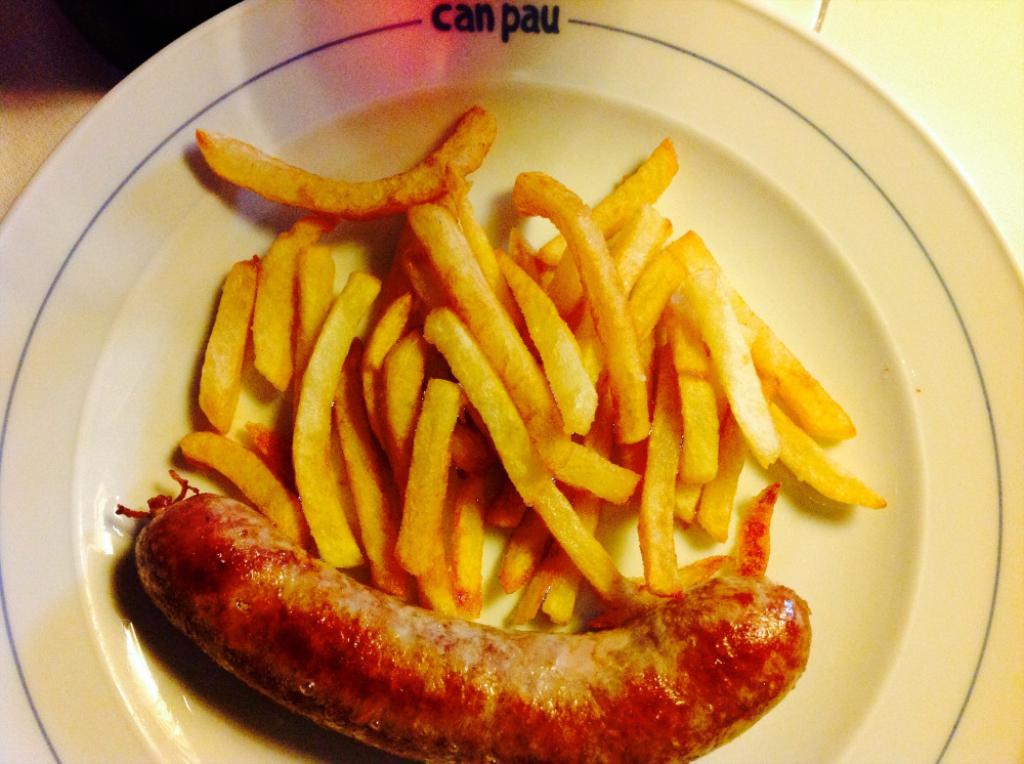French fries: (155, 148, 839, 743)
